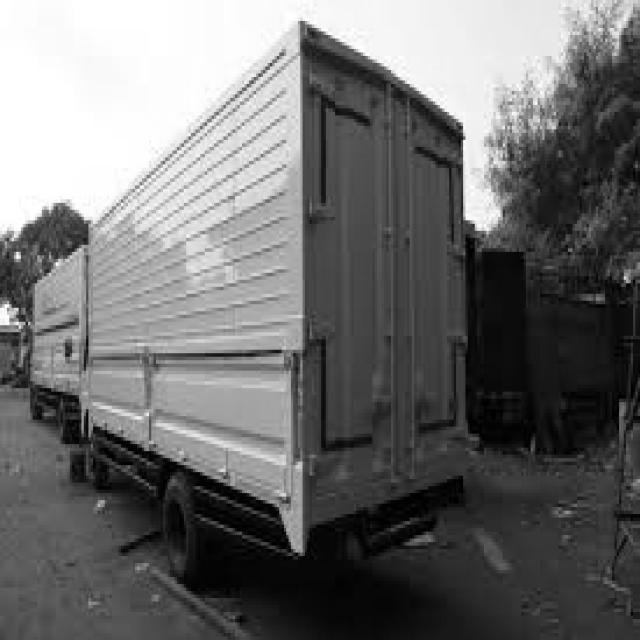truck: (85, 20, 478, 597), (25, 240, 88, 448)
